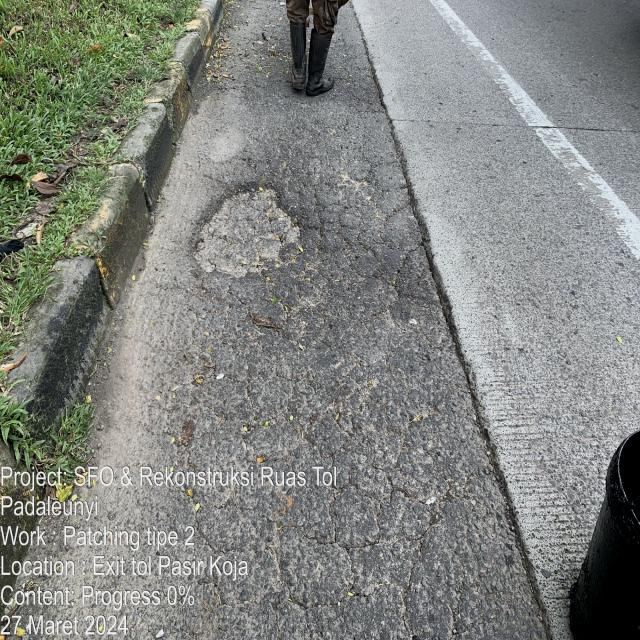Buraco: (186, 179, 311, 282)
